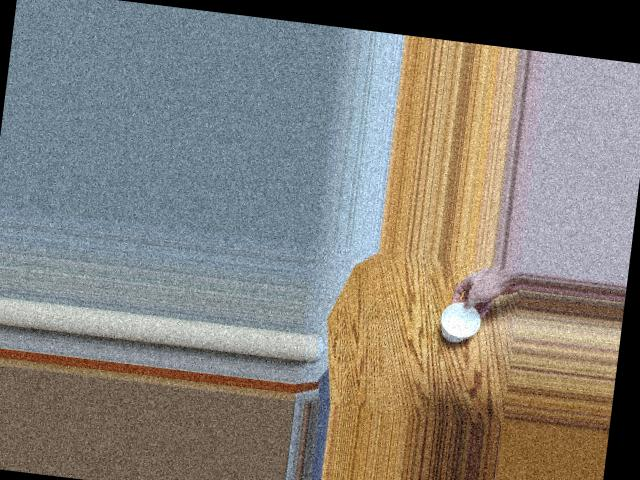cotage: (432, 293, 490, 344)
